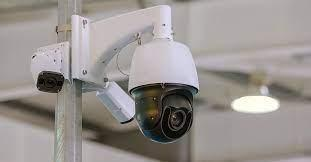camera: (110, 7, 213, 146), (15, 35, 67, 100)
